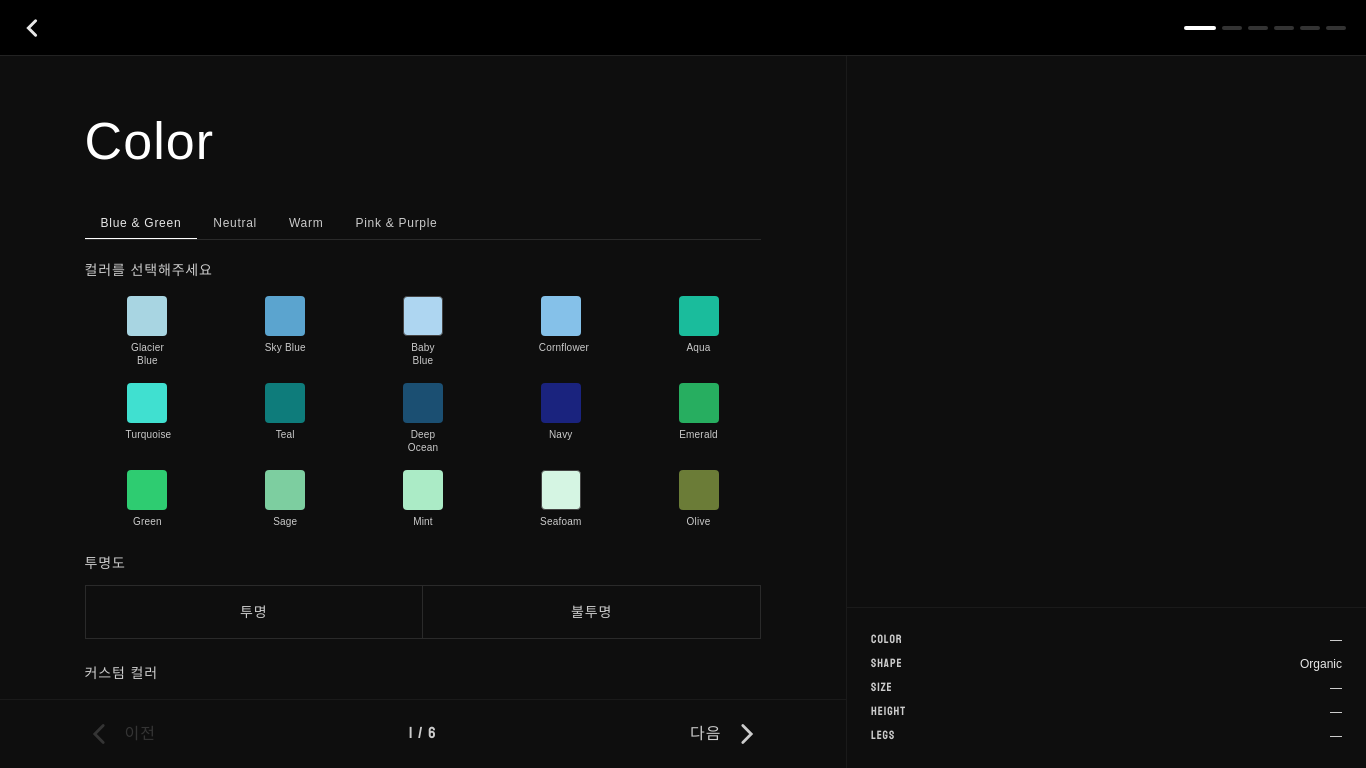
Test: CommissionClient › Legs 스텝에서 소재 2종이 렌더링되고, 소재 미선택 시 모양 카드는 비활성 래퍼로 감싸진다
This screenshot has width=1366, height=768.
Step 1. Click the button "다음" → (726,734), box 690,720 -> 761,748
Wait 200 ms
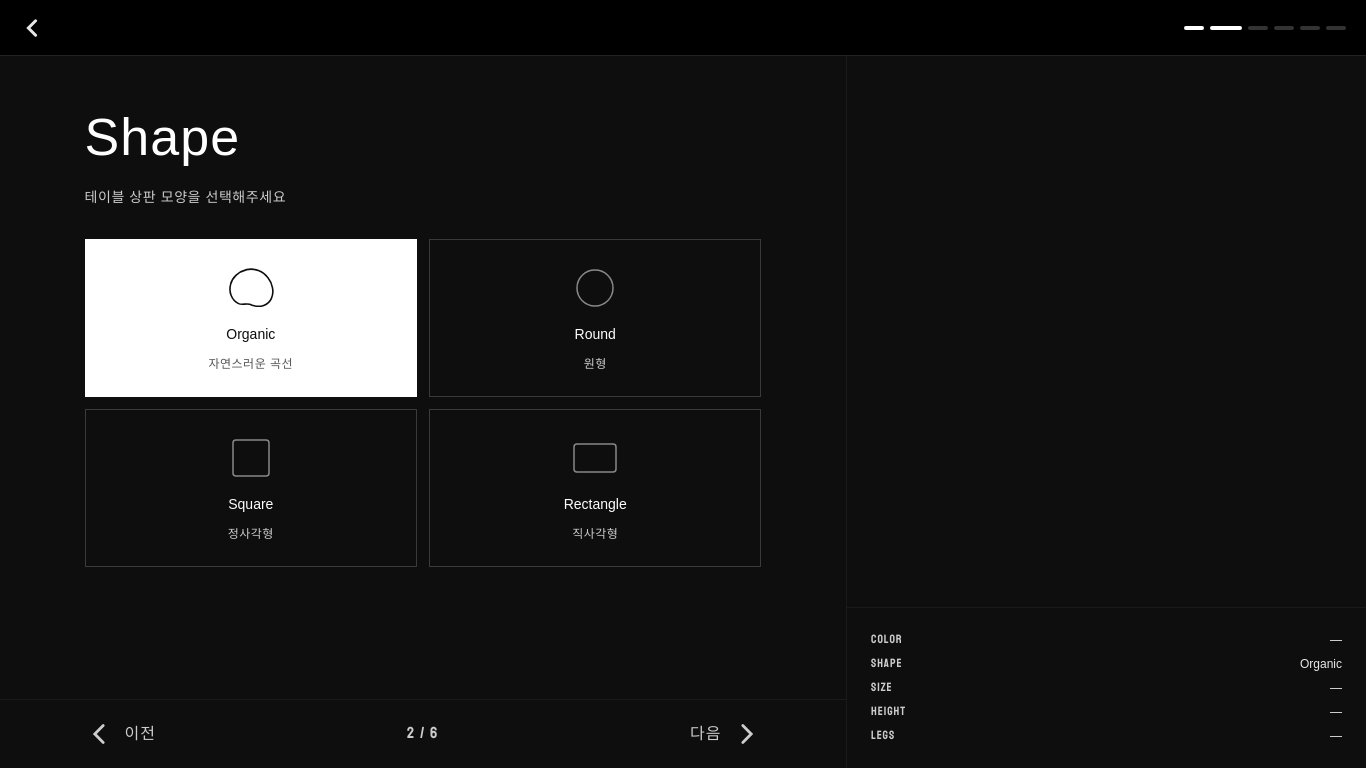
Step 2. Click the button "다음" → (726,734), box 690,720 -> 761,748
Wait 200 ms
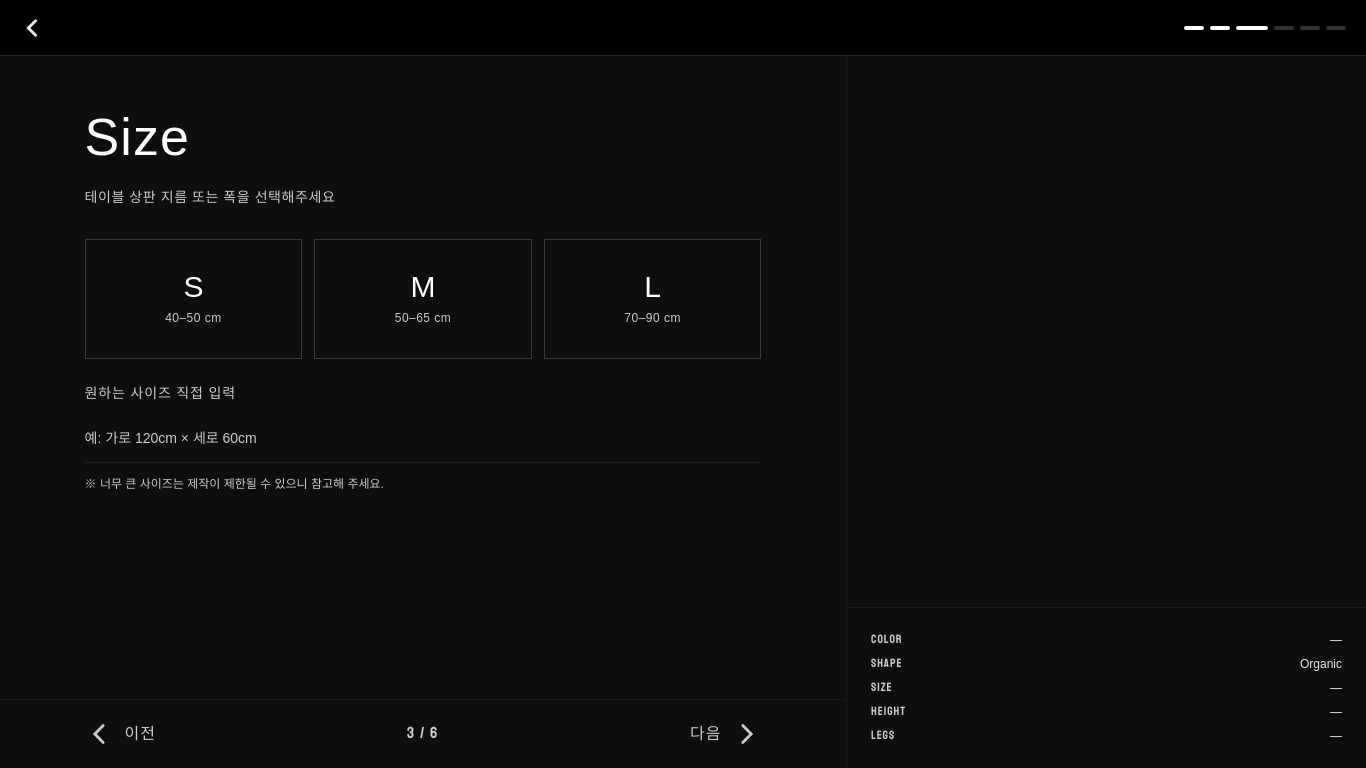
Step 3. Click the button "다음" → (726,734), box 690,720 -> 761,748
Wait 200 ms
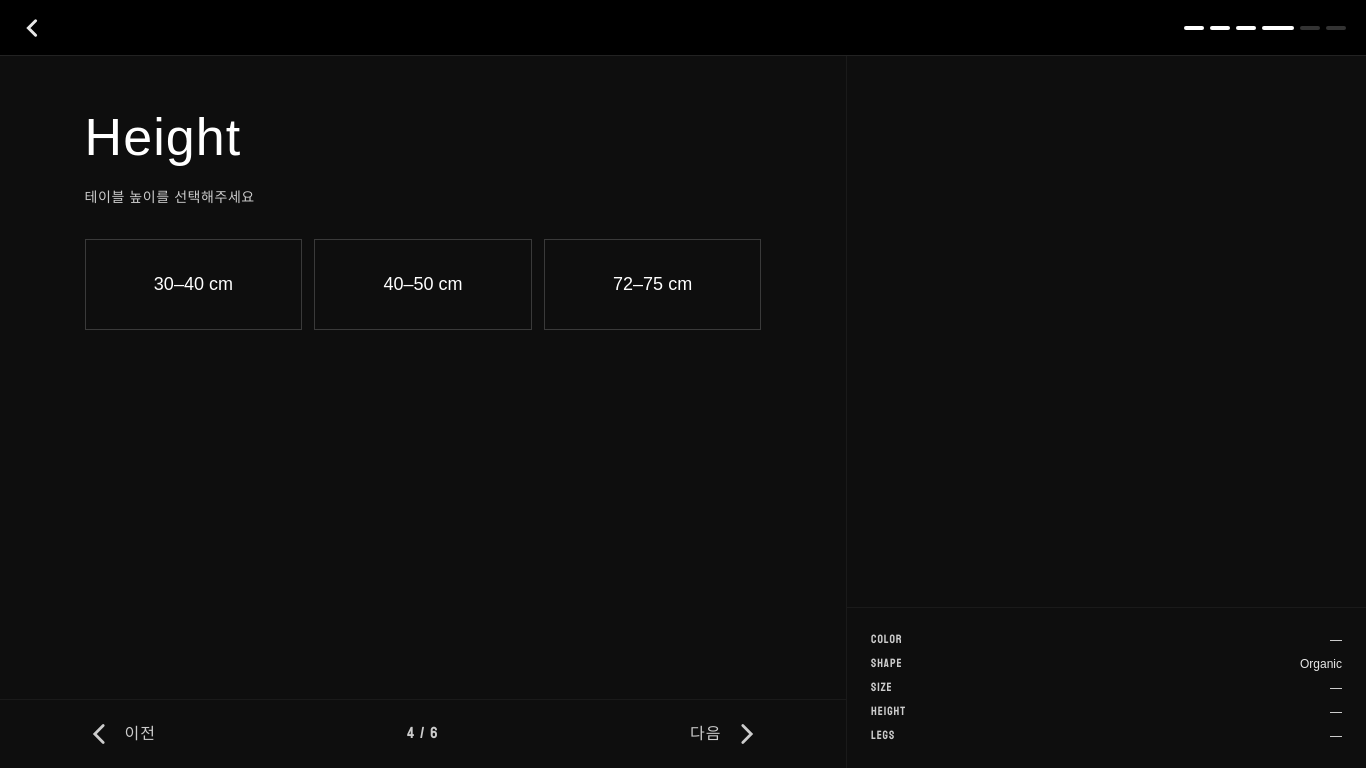
Step 4. Click the button "다음" → (726,734), box 690,720 -> 761,748
Wait 200 ms
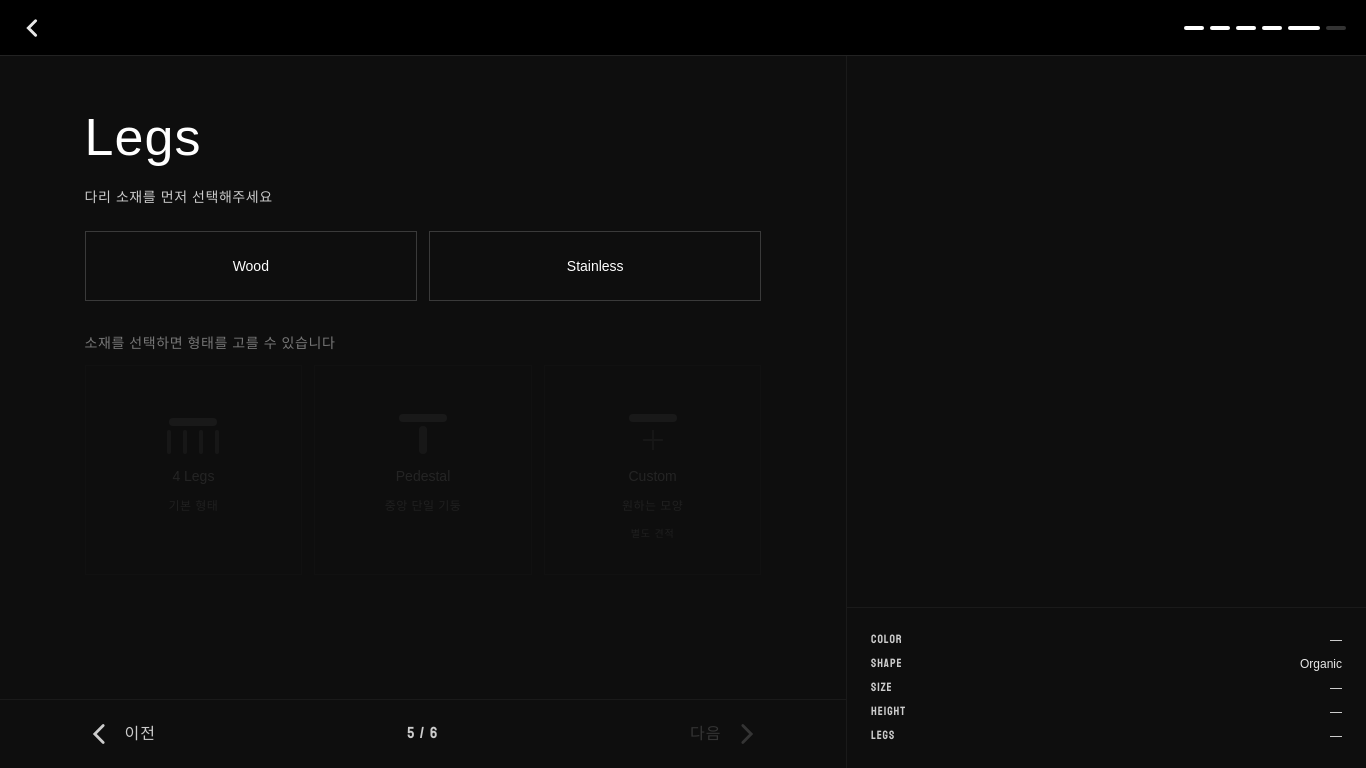
Expected: the button "Wood" is shown, 85,231 -> 417,301
Expected: the button "Stainless" is shown, 429,231 -> 761,301
